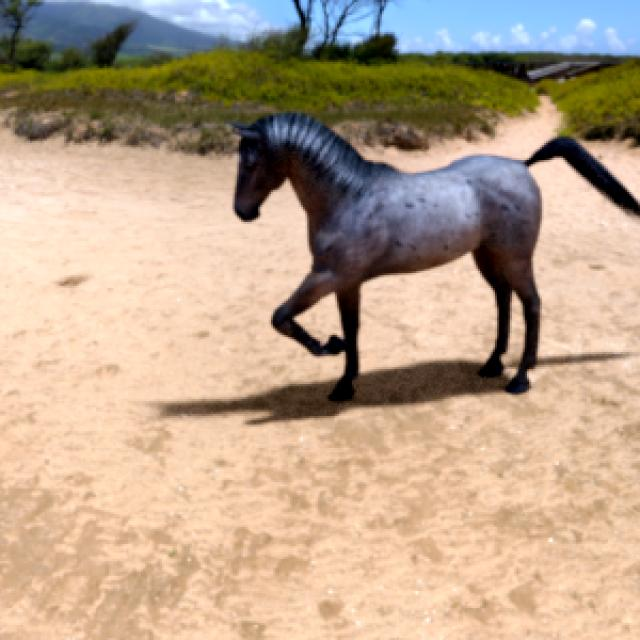horse: (236, 114, 640, 401)
